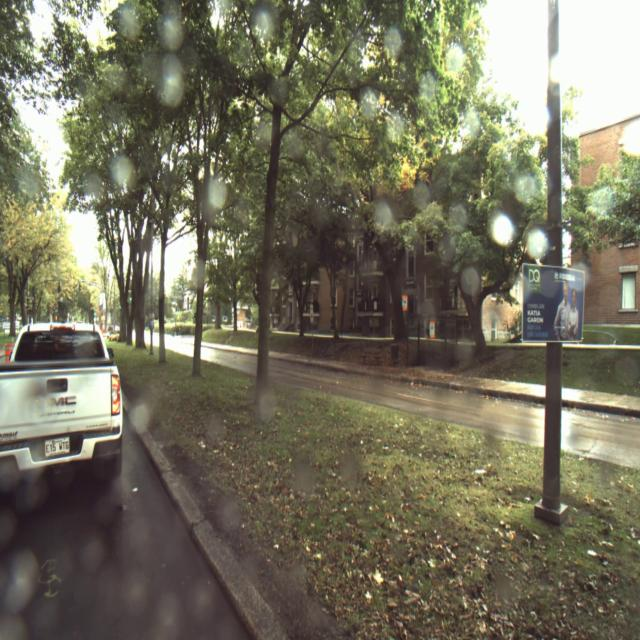car: (2, 323, 124, 481)
